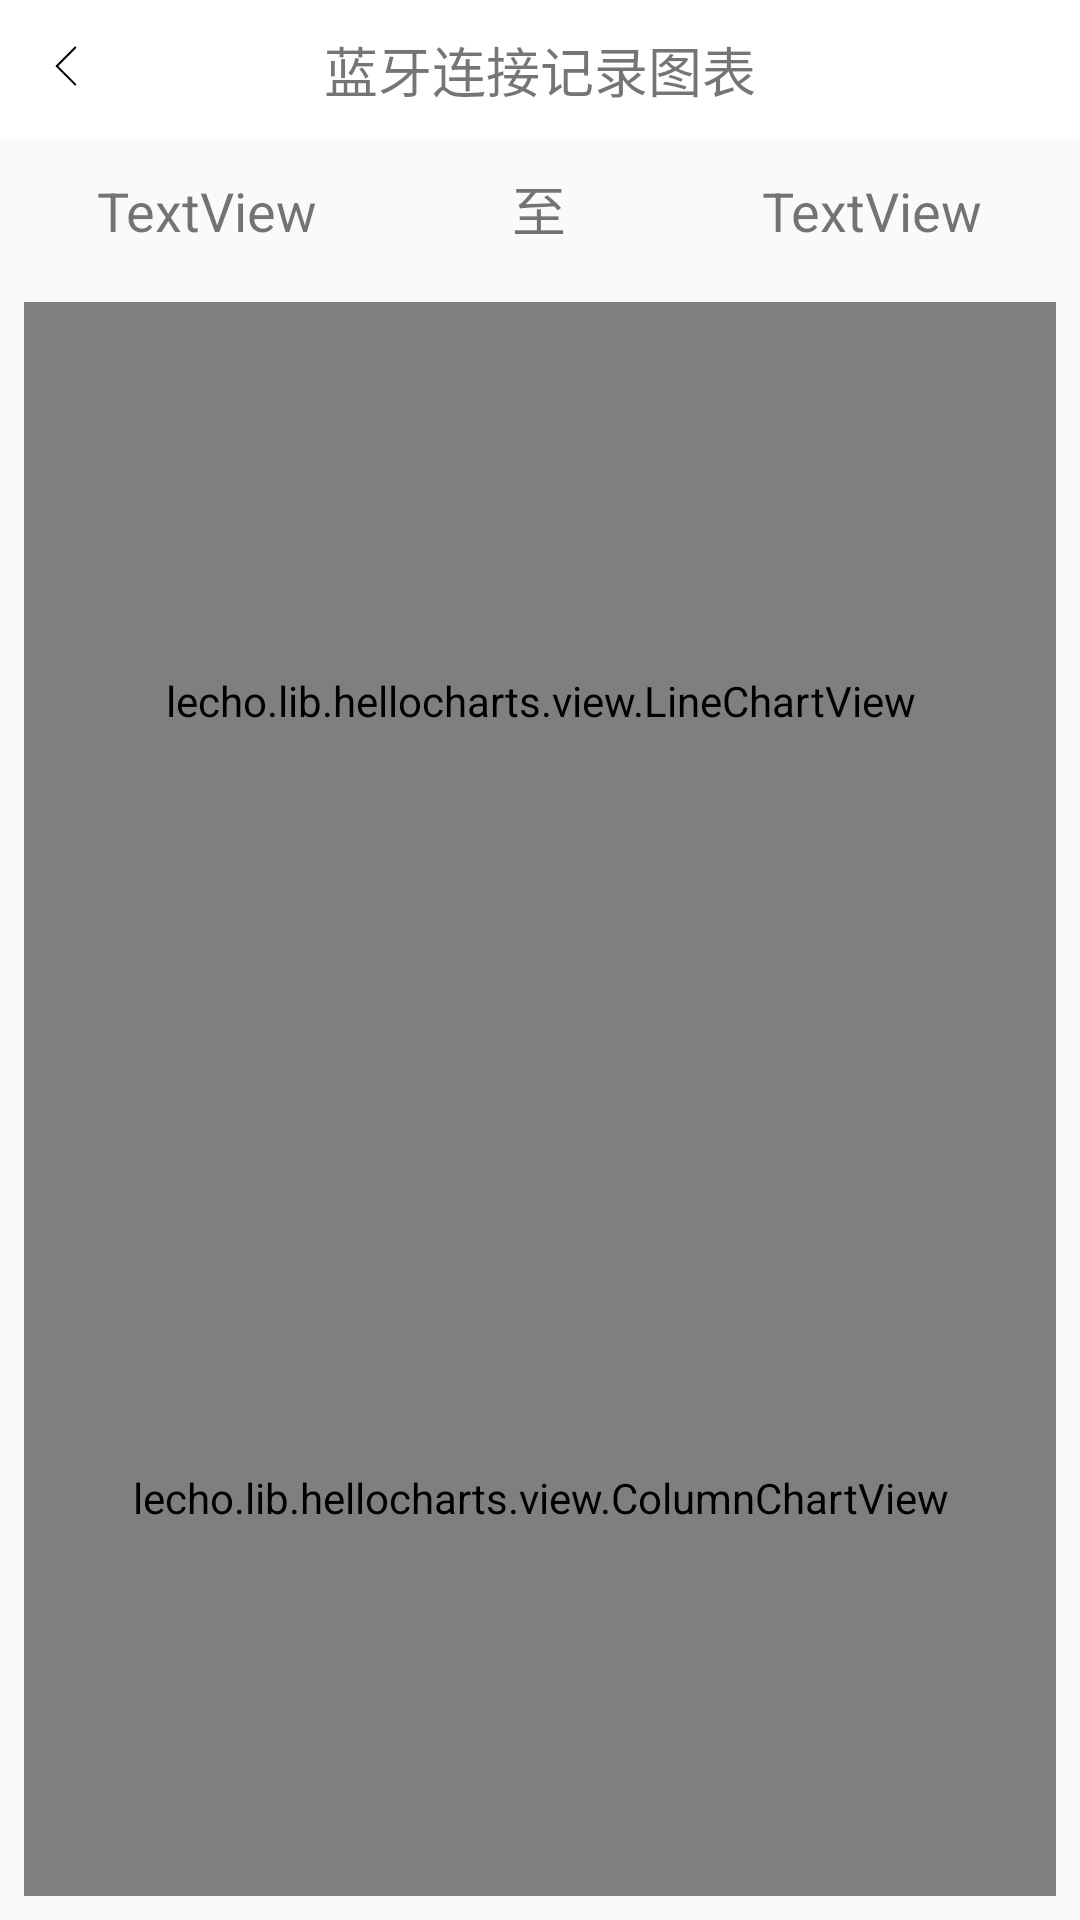

Where to tap for icons on this 1080px×1920px app screen, as (x,y):
back: (66,66)
